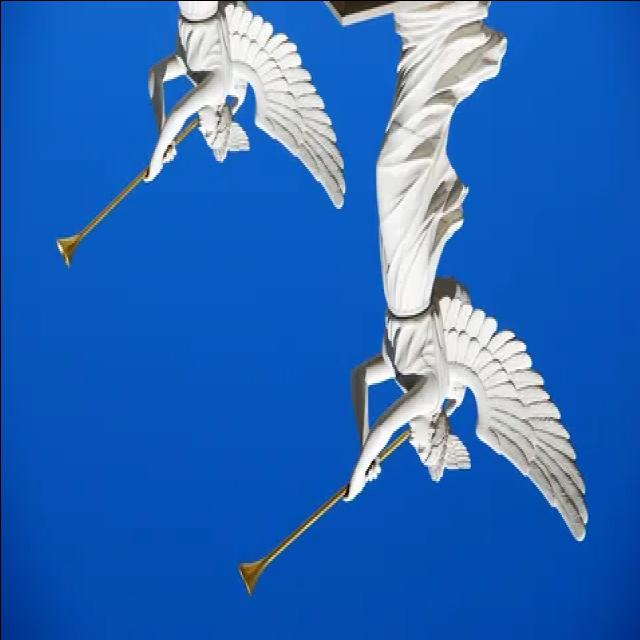angel: (235, 0, 600, 608)
